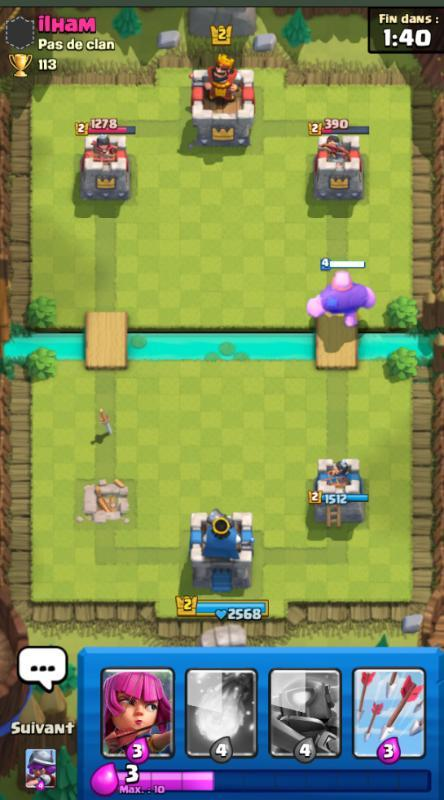player_giant: (302, 263, 380, 333)
